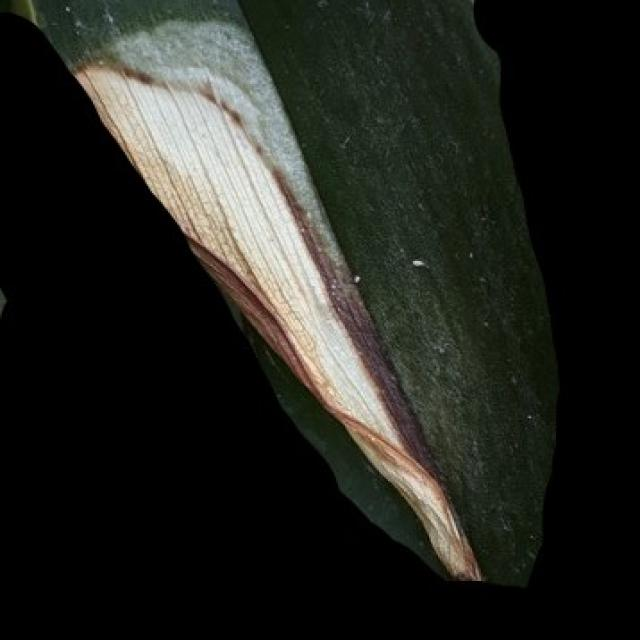mite: (341, 241, 486, 291), (343, 252, 434, 288), (390, 238, 447, 290), (402, 243, 479, 275), (0, 241, 13, 359), (0, 272, 20, 343), (452, 240, 483, 268), (404, 250, 433, 275), (0, 279, 9, 334), (345, 266, 365, 288), (409, 256, 427, 270), (465, 247, 476, 261), (349, 272, 361, 284)
sunburn: (64, 27, 488, 586)
